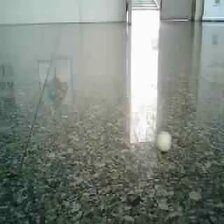w: (156, 130, 172, 152)
